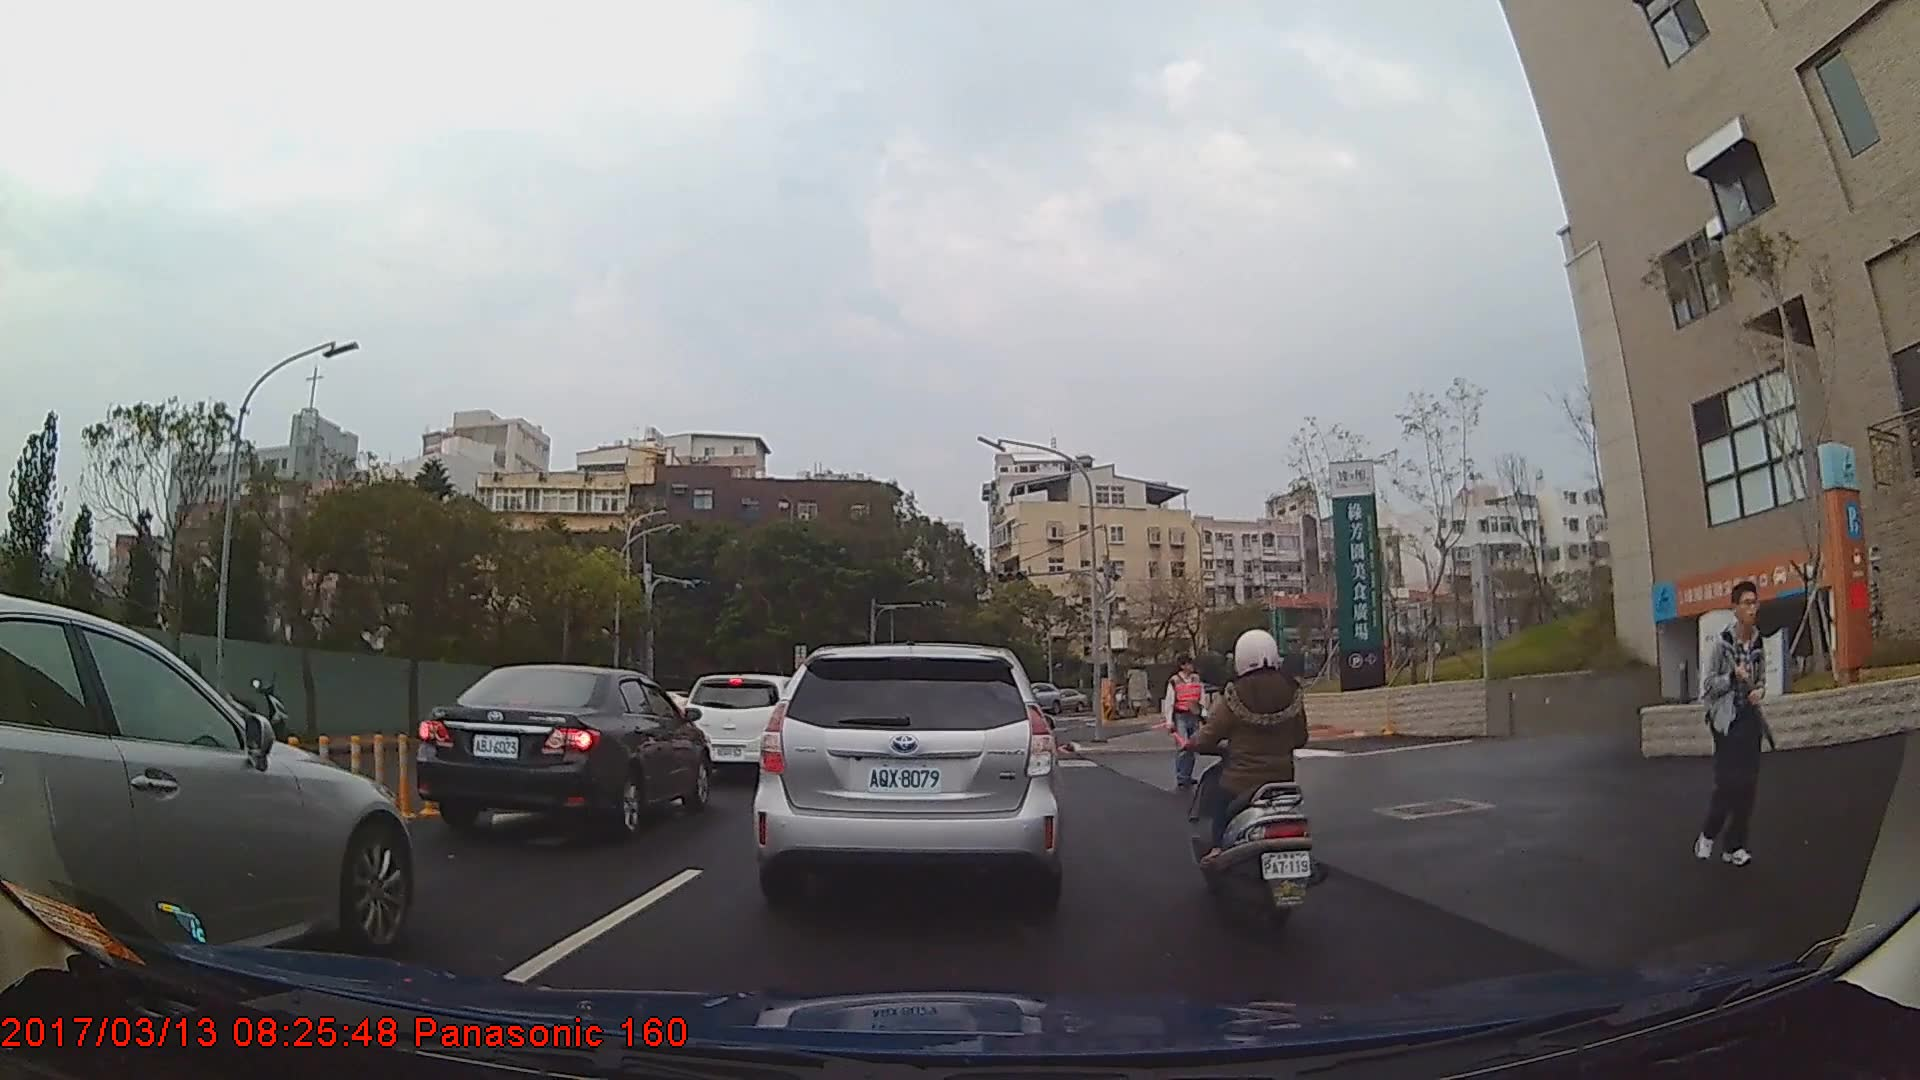pedestrian: (1699, 578, 1776, 867), (1162, 655, 1217, 793)
rider: (1177, 629, 1320, 934)
vehicle: (0, 591, 413, 973), (752, 641, 1065, 912), (413, 661, 710, 840), (686, 671, 808, 783), (1048, 685, 1088, 714)
